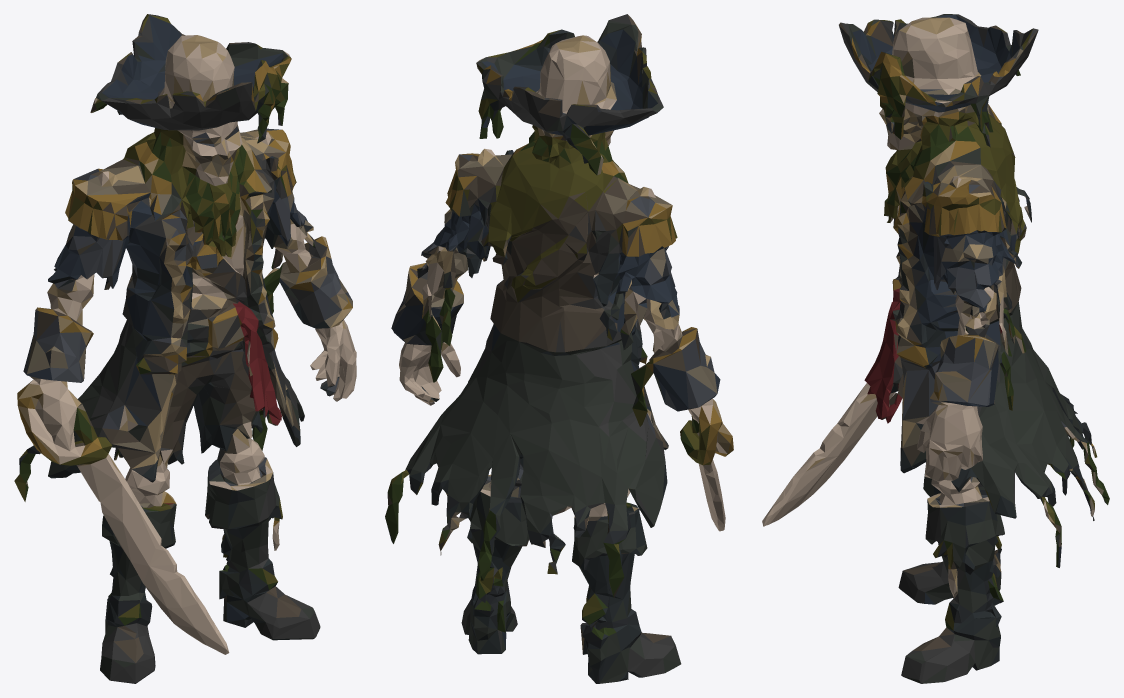
File: captain.glb
3 views of the same model, side by side, from view 1: azimuth 30°, elevation 25°; view 2: azimuth 150°, elevation 25°; view 3: azimuth 270°, elevation 25° (orthographic).
Visible parts, largest first — view 1: captain; view 2: captain; view 3: captain.
Part boxes in pixels (<box>): captain: <box>14,14,356,683</box>; captain: <box>385,14,733,683</box>; captain: <box>762,14,1109,683</box>.
Size of the model in its own units: 1.07 by 1.9 by 0.9826.
